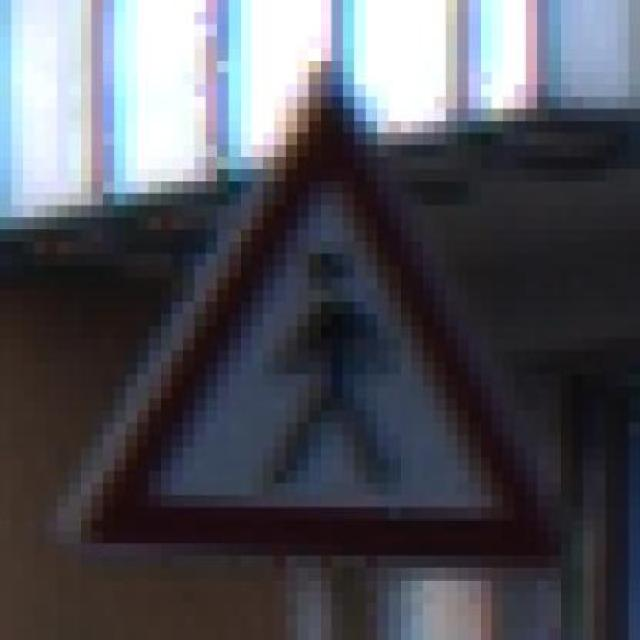Pedestrian Crossing: (79, 35, 572, 568)
